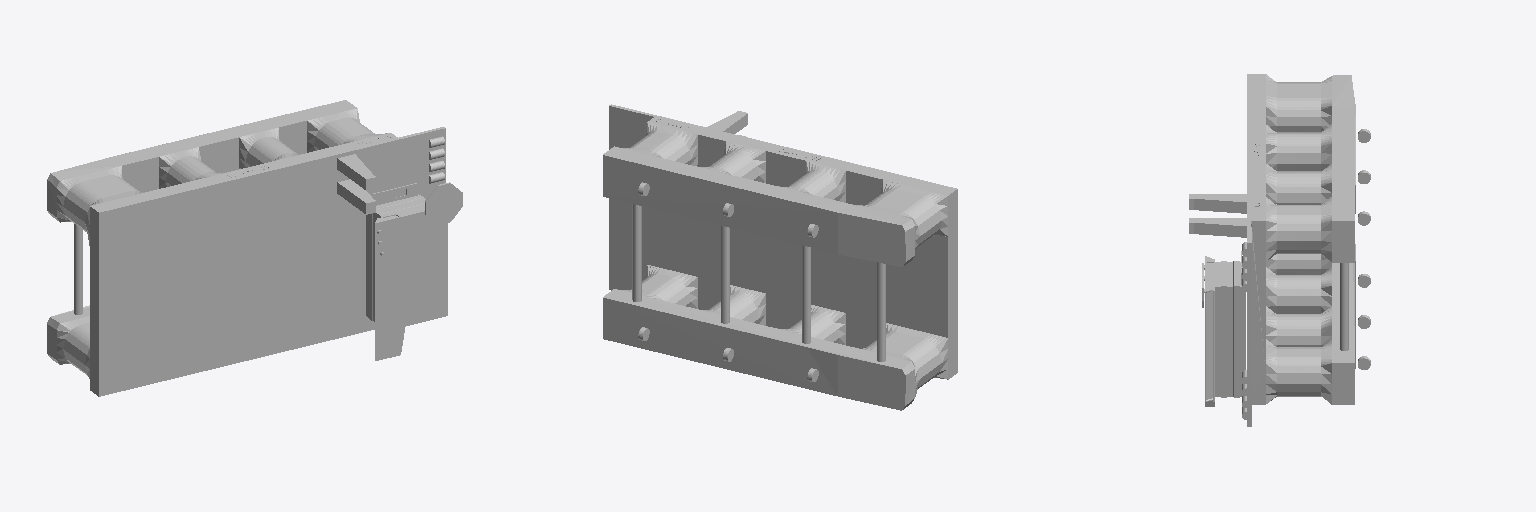
Rendered from visual vessel octopus.obj.
3 views of the same model, side by side, from view 1: azimuth 30°, elevation 25°; view 2: azimuth 150°, elevation 25°; view 3: azimuth 270°, elevation 25° (orthographic).
Bounding box in the file's own units: 185 × 100 × 83.94.